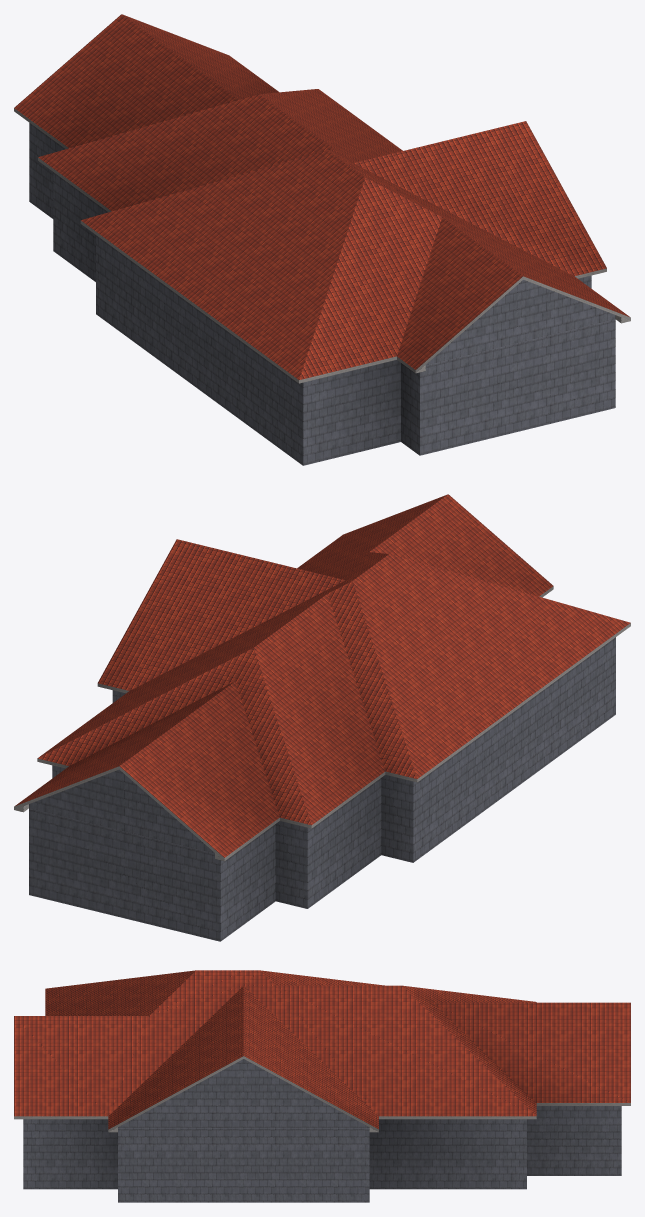
Rendered from house_028.glb.
The picture shows the model from 3 angles, top to bottom: view 1: azimuth 30°, elevation 25°; view 2: azimuth 150°, elevation 25°; view 3: azimuth 270°, elevation 25°; orthographic projection. The views are drawn at different scales.
Parts seen in each view (by area): view 1: Export; view 2: Export; view 3: Export.
Part boxes in pixels (box(x1,y1,x2,y2)): Export: box(14, 14, 630, 465); Export: box(14, 494, 630, 941); Export: box(14, 970, 630, 1202).
Bounding box in the file's own units: 10.6 × 5.58 × 19.6.
3 materials, 3 textured.
